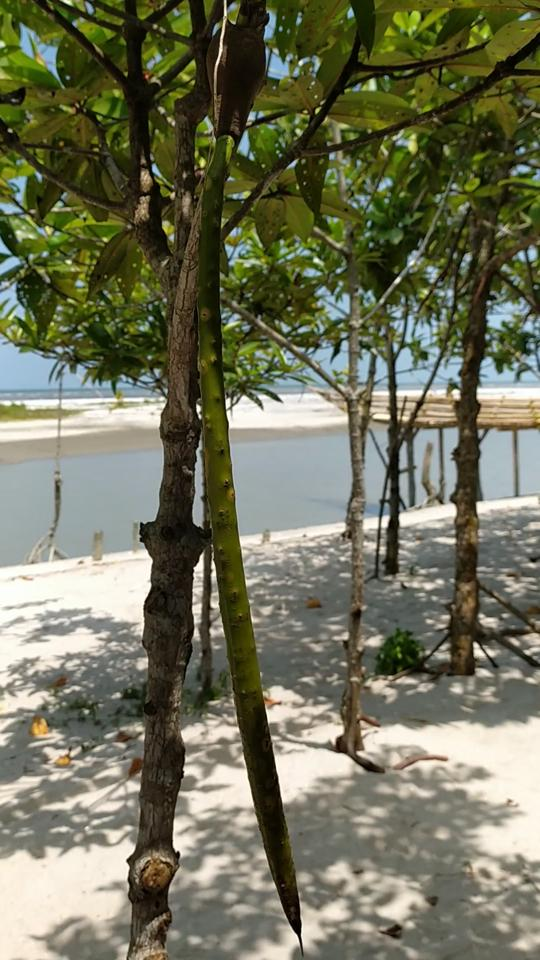setengah matang: (185, 22, 322, 944)
